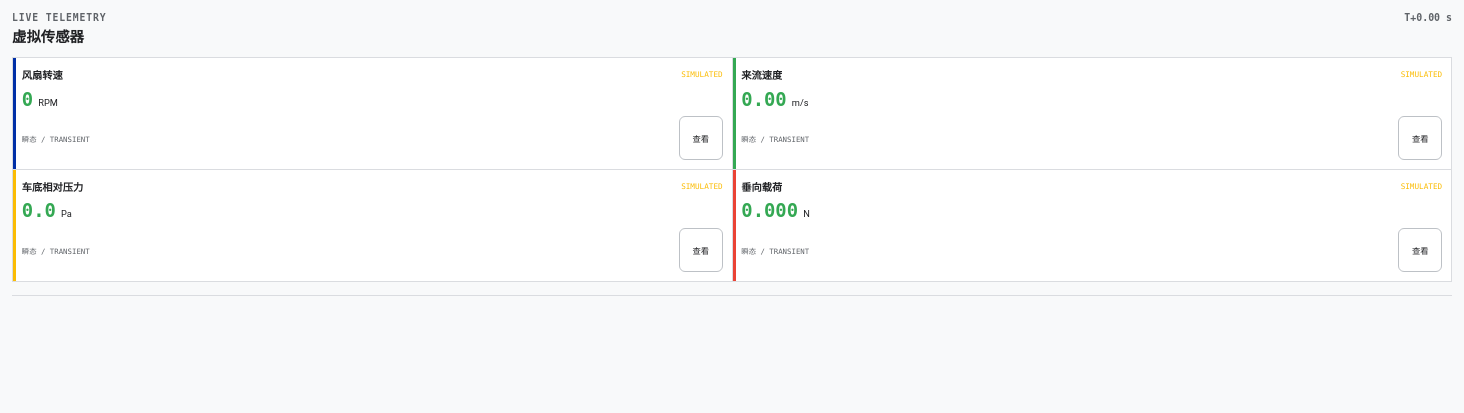
Test: reports each inspected sensor as tutorial evidence
This screenshot has width=1464, height=413.
Click the button with aria-label "查看风扇转速说明". click: (701, 138)
box: [679, 116, 723, 160]
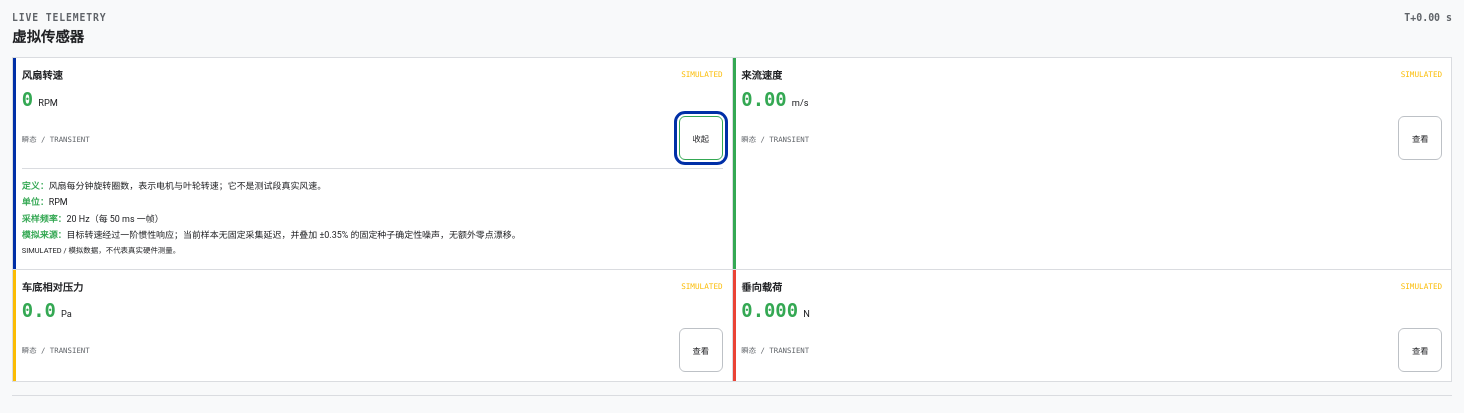
Click the button with aria-label "查看来流速度说明". click: (1420, 138)
box: [1398, 116, 1442, 160]
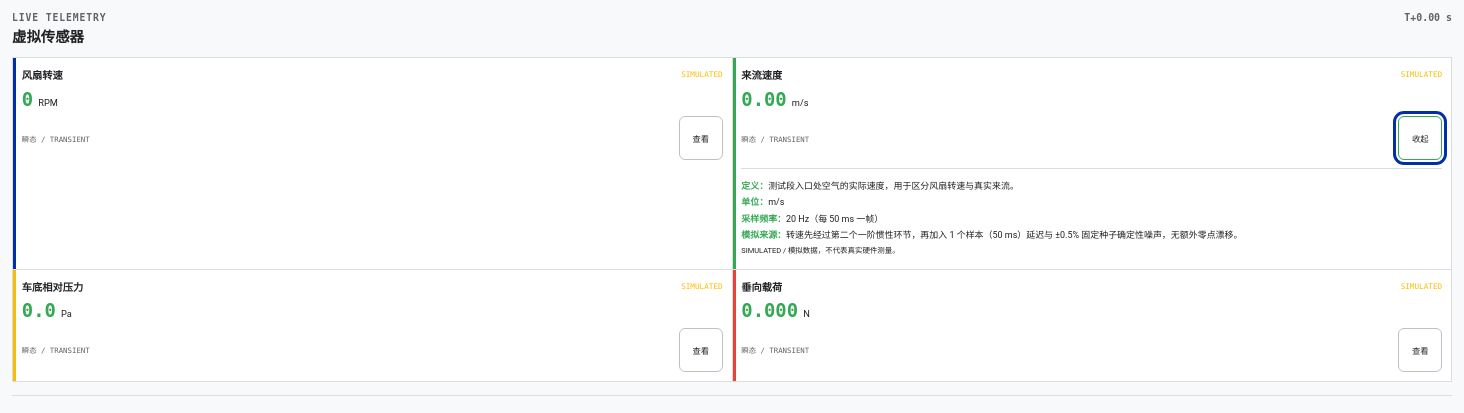
Click the button with aria-label "查看车底相对压力说明". click: (701, 350)
box: [679, 328, 723, 372]
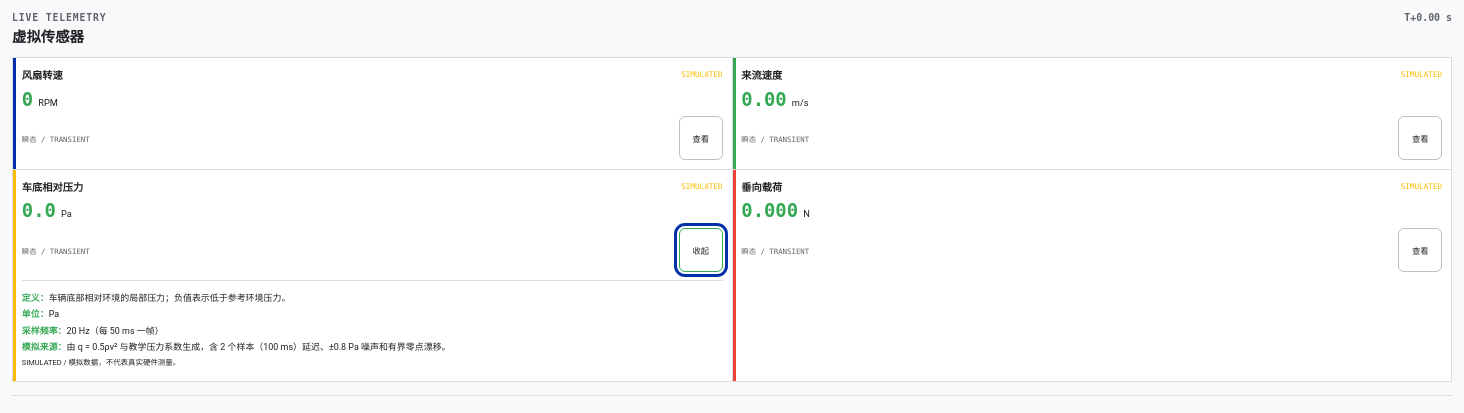
Click the button with aria-label "查看垂向载荷说明". click: (1420, 250)
box: [1398, 228, 1442, 272]
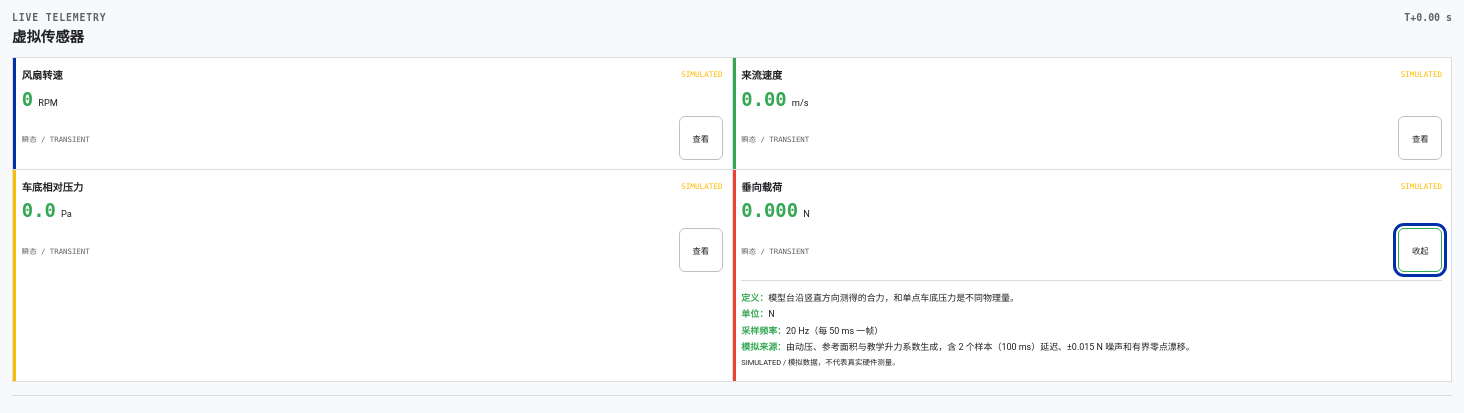
Expected: the element named "垂向载荷传感器说明" shows "20 Hz", [786, 326, 883, 336]
